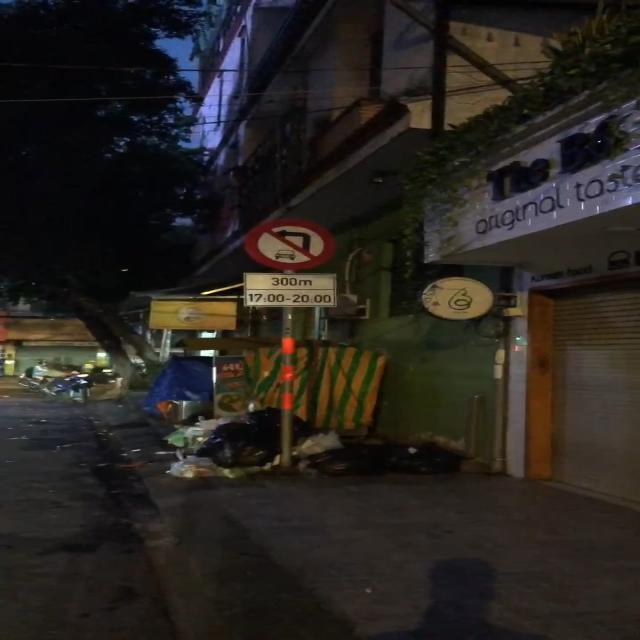Bien bao cam xe o to re trai: (241, 220, 331, 276)
